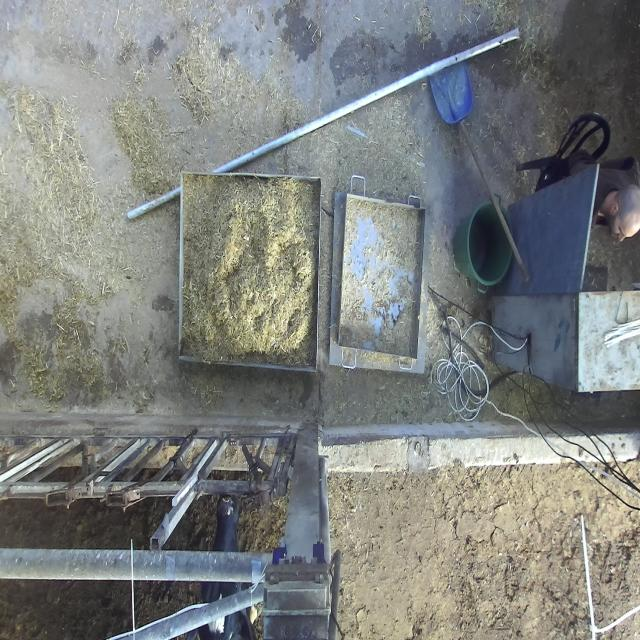cow: (204, 492, 259, 639)
